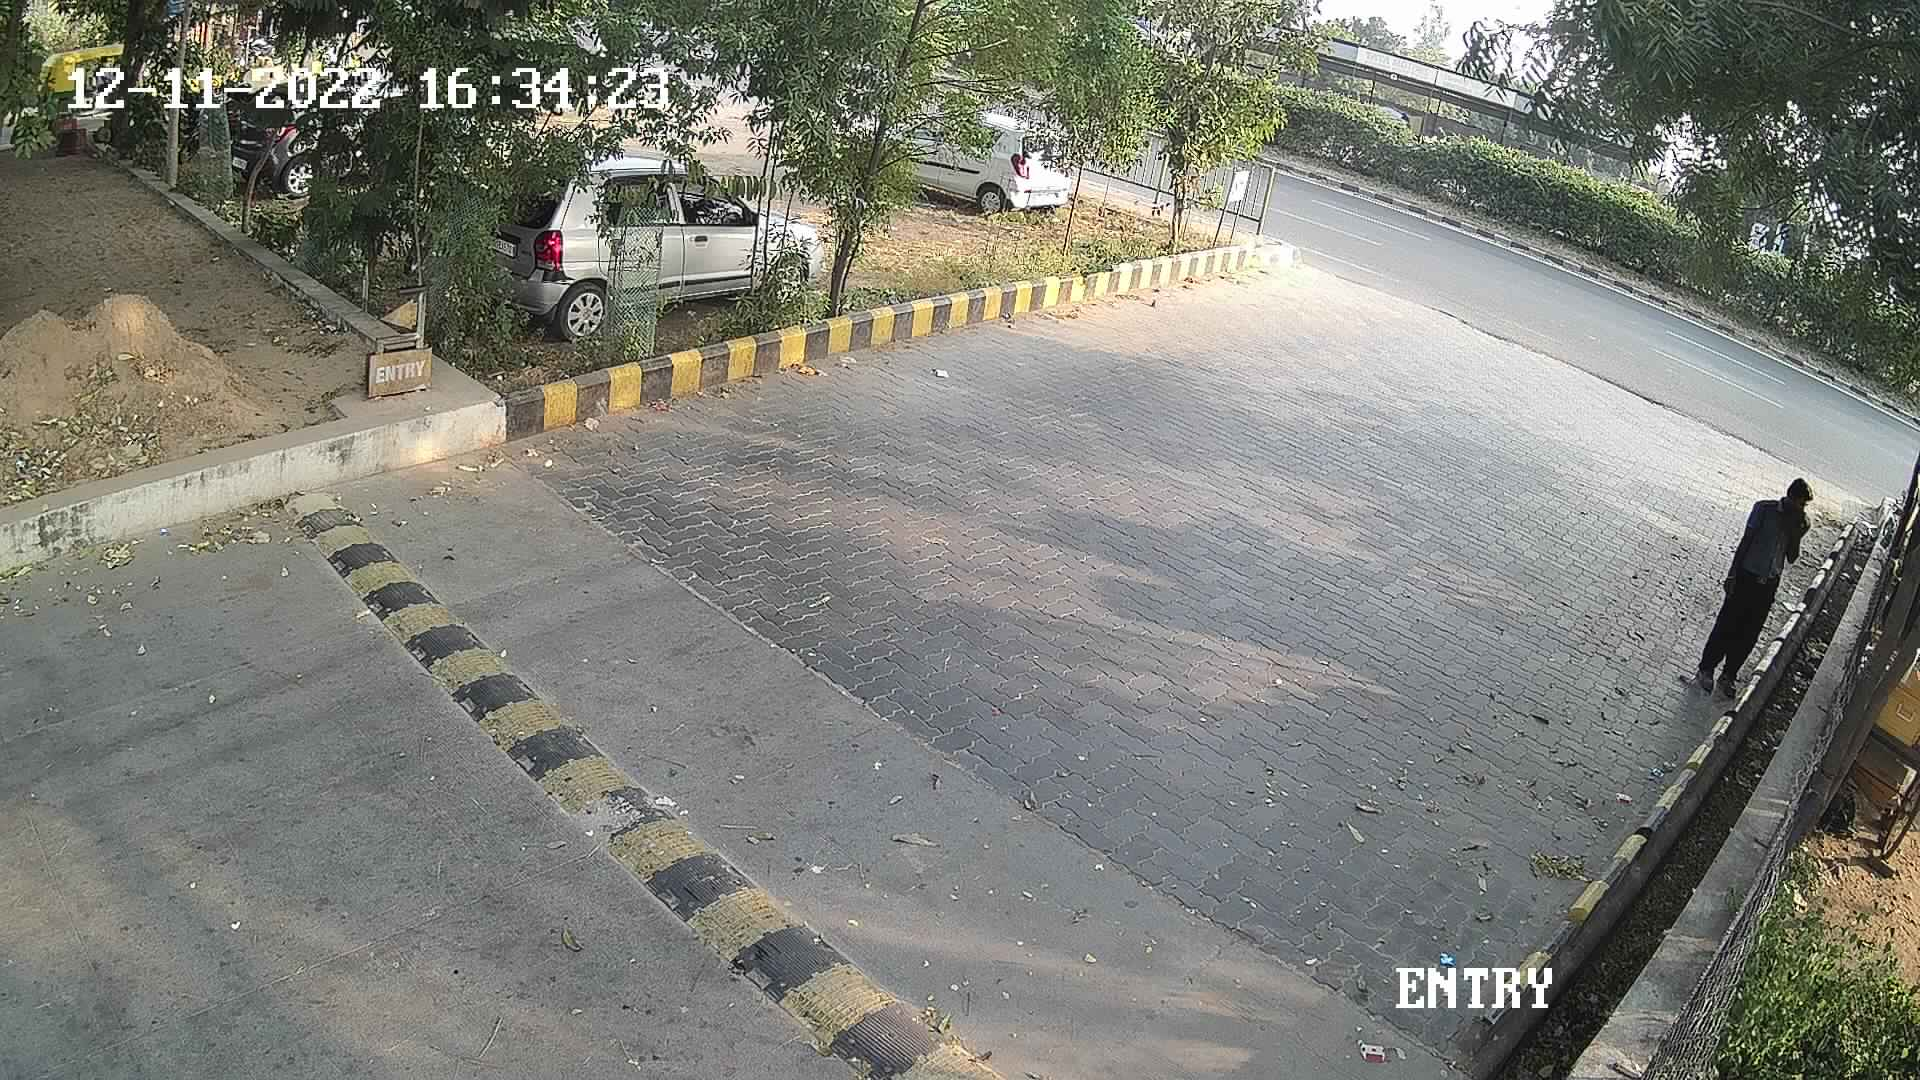Car: (433, 138, 829, 342), (833, 80, 1089, 222)
